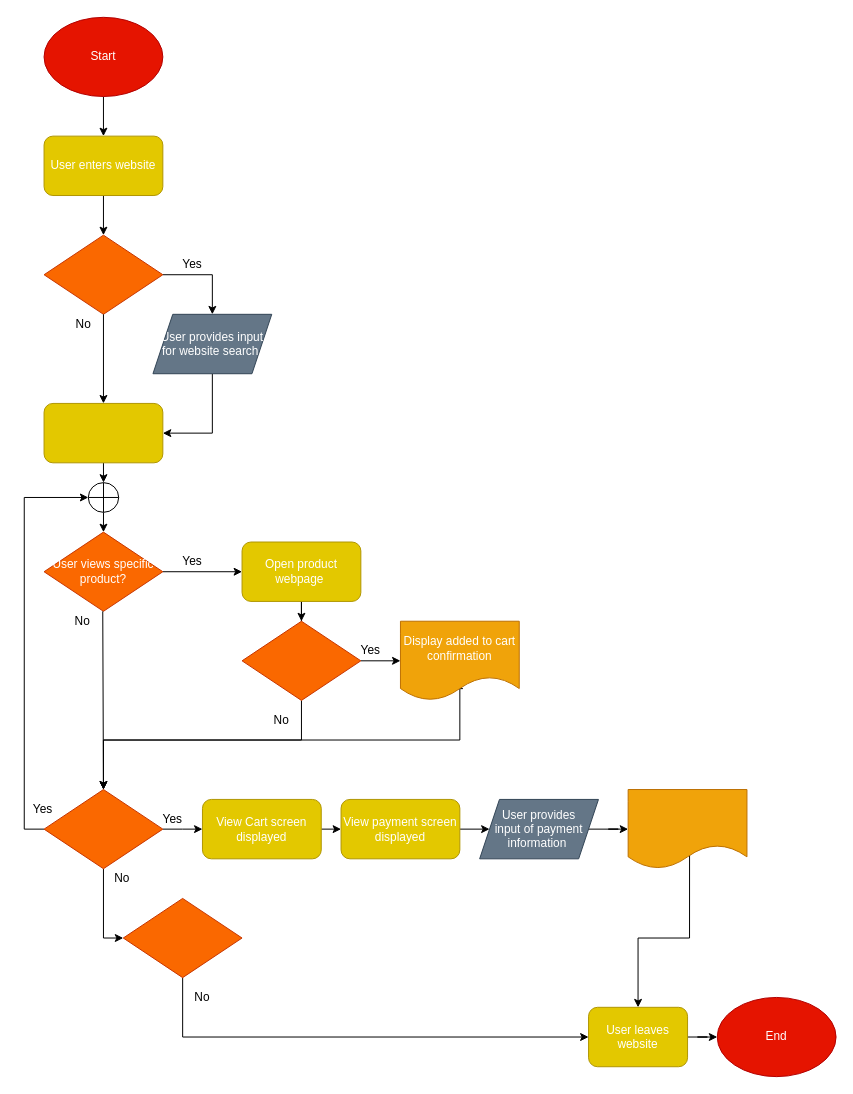
This 853x1094 diagram has some shape labels left out. Here are the shapes that lost their labels. From the top down, the box of each, then its label:
(43, 234, 163, 314): User searches for product?
(43, 402, 163, 463): User looks over products
(241, 620, 361, 700): User adds item to cart?
(43, 789, 163, 869): User continues shopping?
(627, 789, 747, 869): Display order confirmation screen and send email to user
(122, 897, 242, 978): User checks out?
